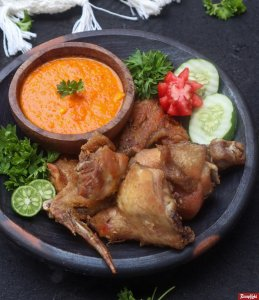Ayam: (97, 152, 169, 268), (44, 135, 126, 230), (165, 138, 248, 208)
